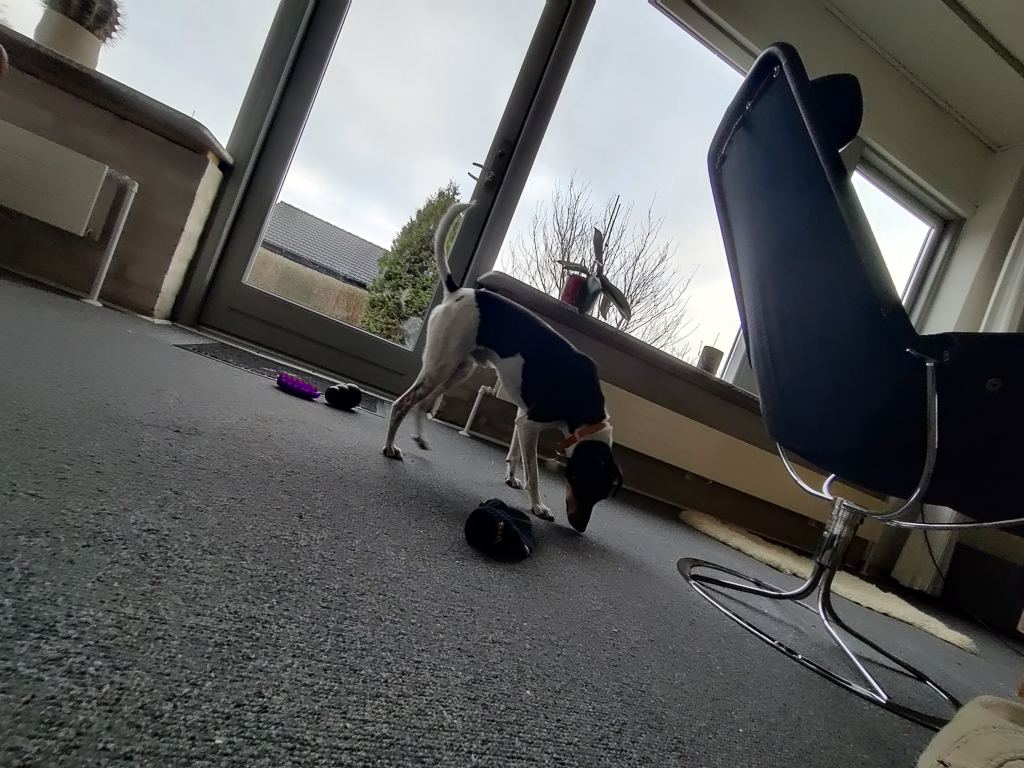Cattle: (0, 39, 20, 84)
Dog: (377, 192, 633, 540)
